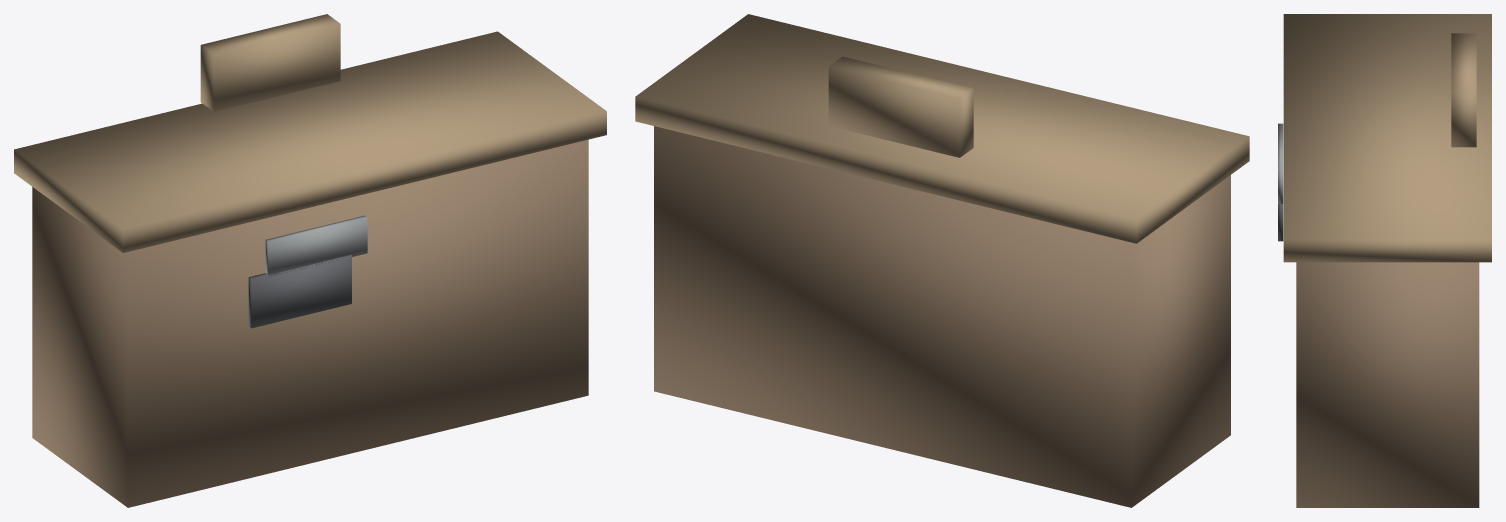
File: judge_bench__weathered.glb
3 renders of one model, left to right at view 1: azimuth 30°, elevation 25°; view 2: azimuth 150°, elevation 25°; view 3: azimuth 270°, elevation 25°, orthographic. The views are drawn at different scales.
Parts seen in each view (by area): view 1: world; view 2: world; view 3: world.
Part boxes in pixels (x1,y1,x2,y2): world: [14, 14, 606, 507]; world: [635, 14, 1249, 507]; world: [1278, 14, 1491, 507].
Size of the model in its own units: 2.1 by 1.47 by 0.8417.
